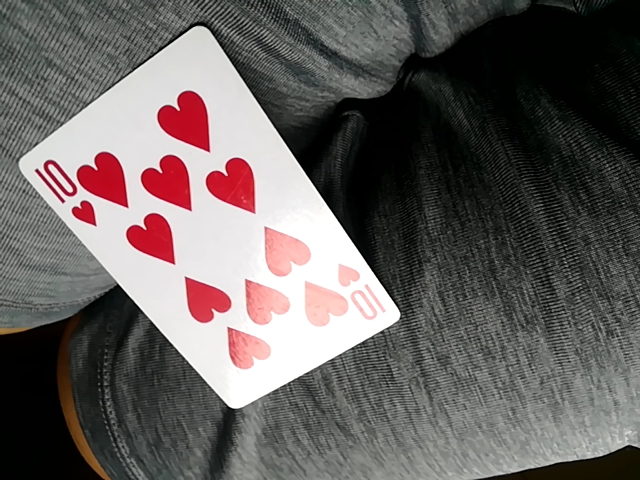hx 10: (22, 29, 398, 412)
